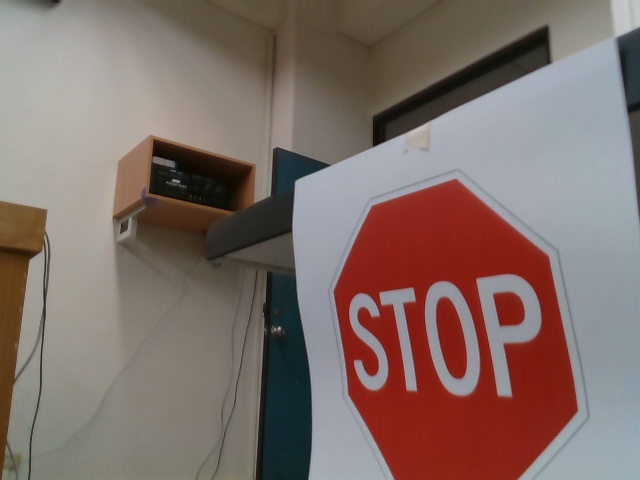stop: (328, 167, 593, 480)
